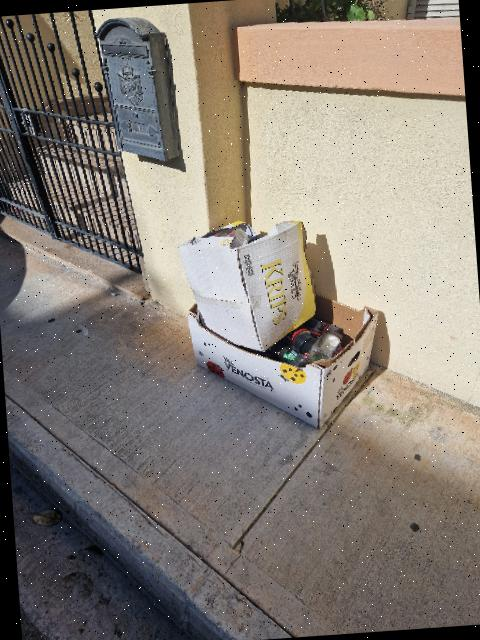Other: (178, 221, 378, 427)
